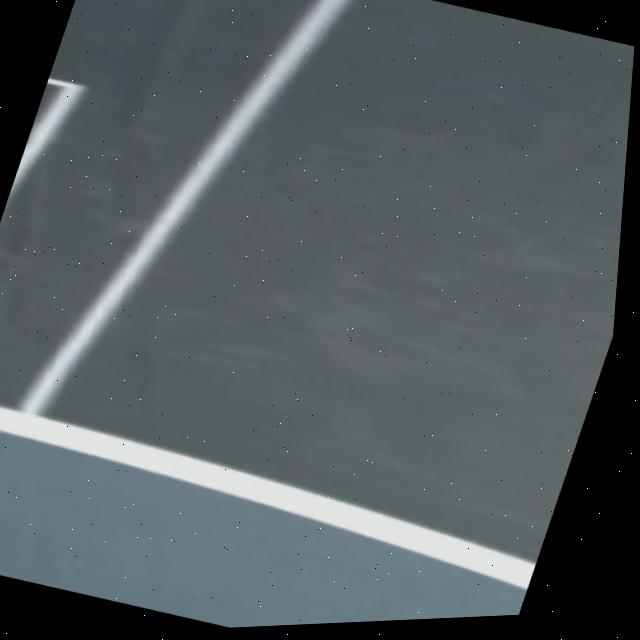left: (0, 408, 535, 590)
